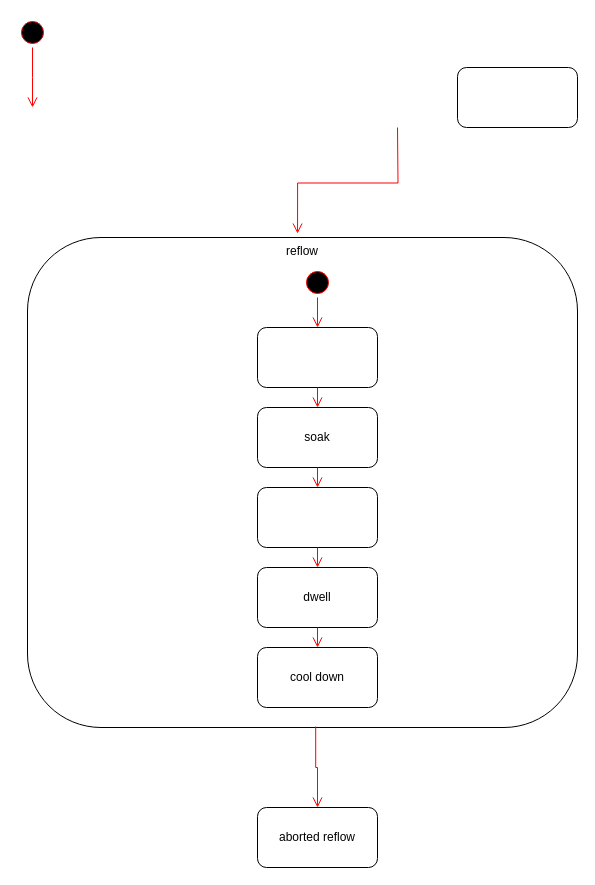
This 595x885 diagram has some shape labels left out. The shapes that lost their labels are listed below. From the top down, each one's box as (x1, y1, x2, y2) in pixels, then its label:
(456, 66, 578, 128): Idle
(256, 326, 378, 388): ramp to soak
(256, 486, 378, 548): ramp to reflow
